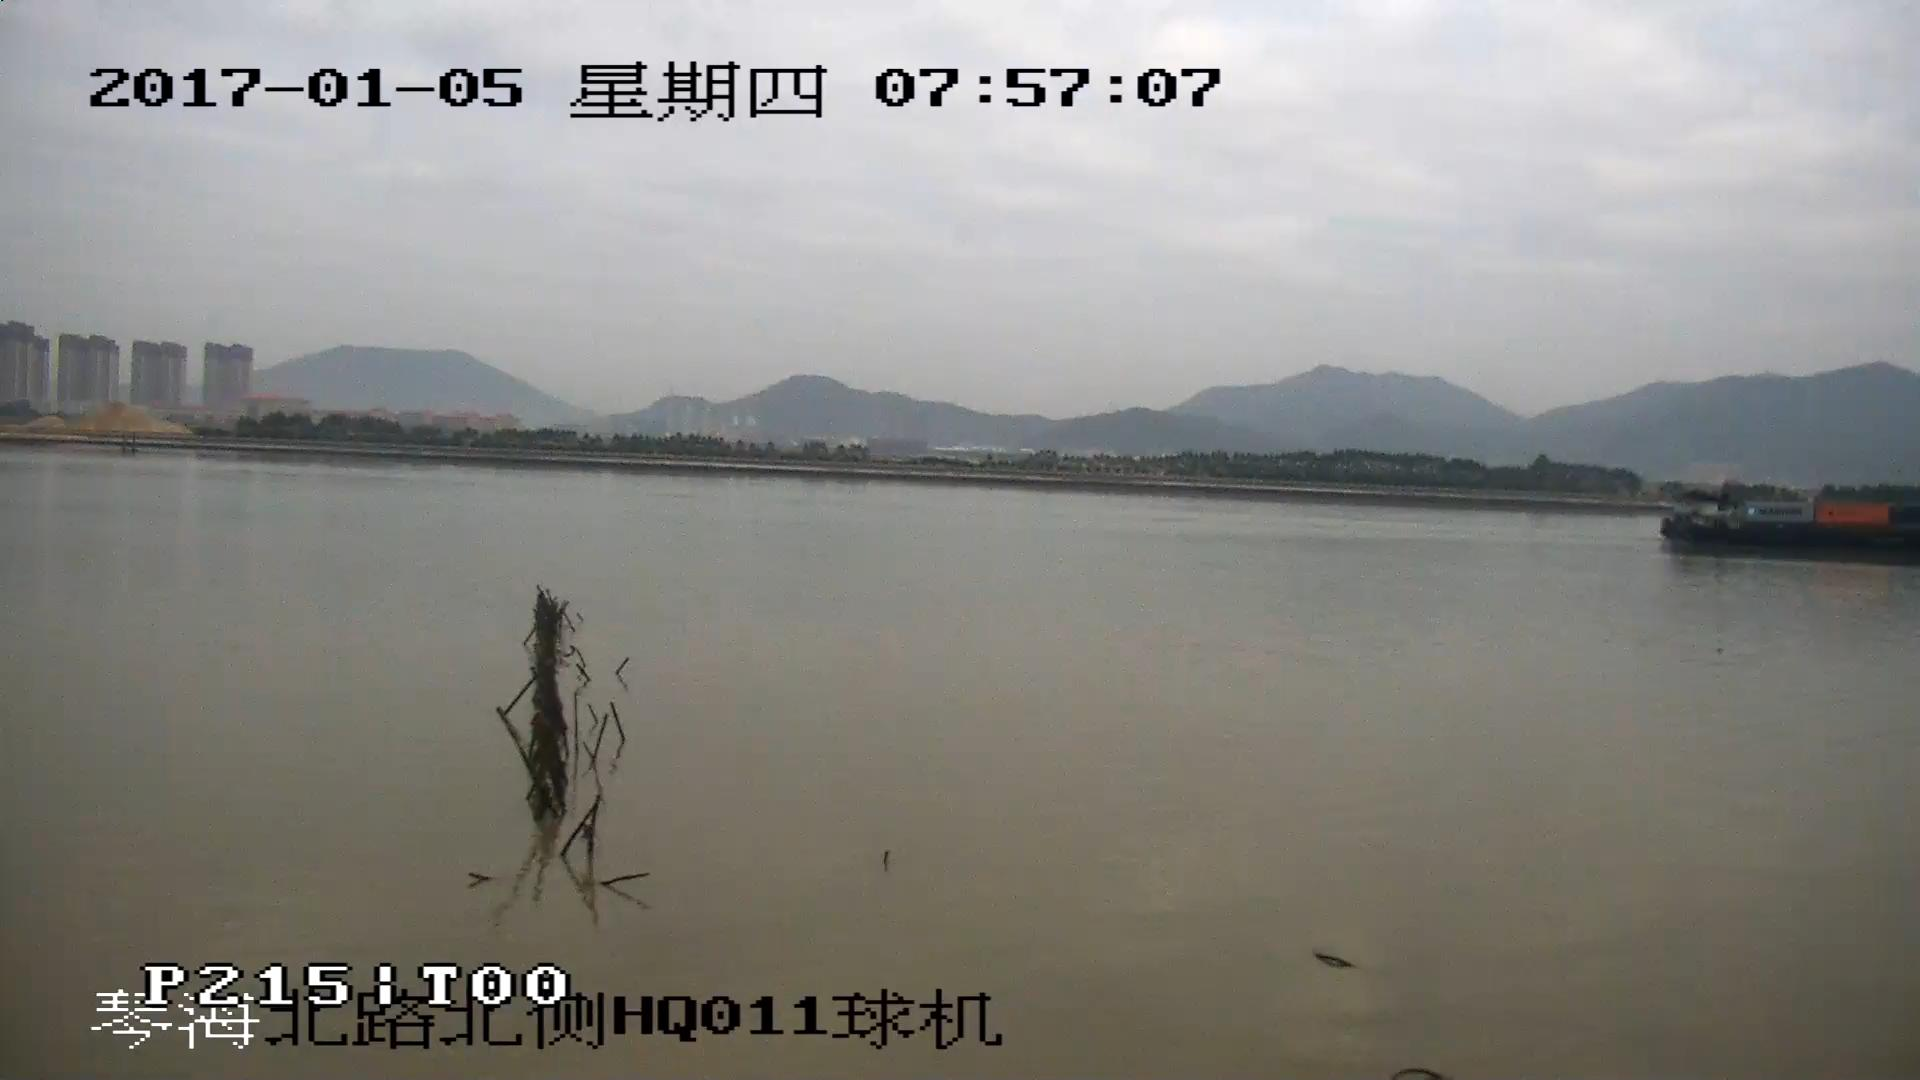container ship: (1656, 495, 1920, 556)
